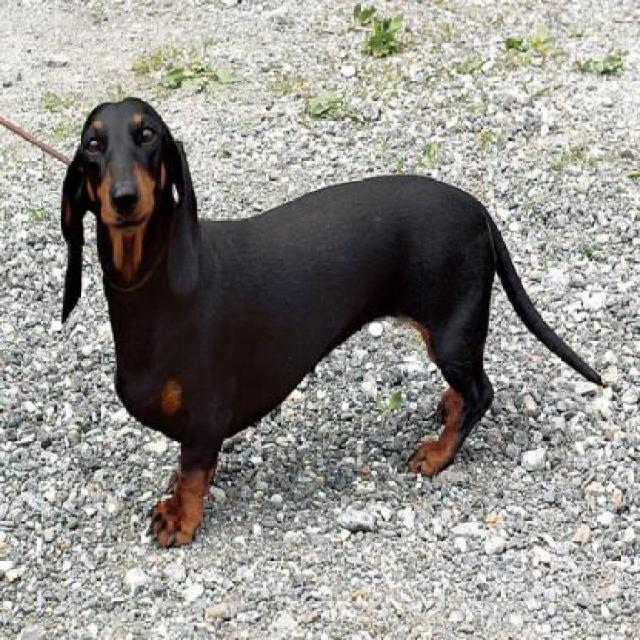Dog: (58, 88, 611, 552)
